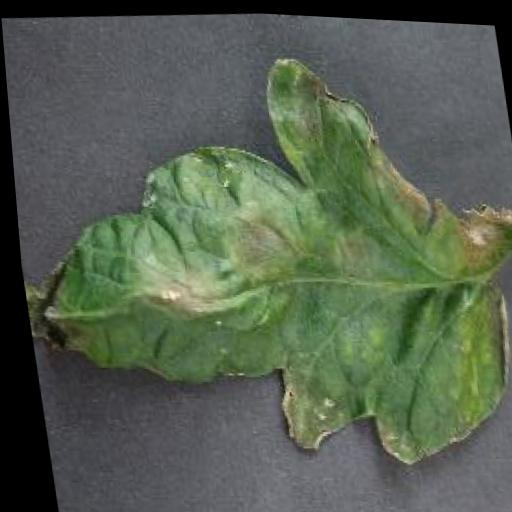Late Blight: (2, 26, 512, 496)
